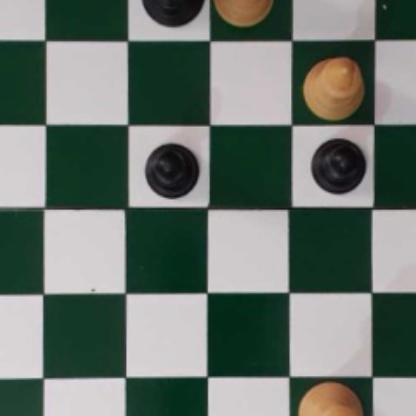black-king: (140, 0, 205, 28)
black-pawn: (142, 139, 201, 199), (309, 135, 368, 194)
white-bishop: (302, 54, 364, 121)
white-king: (298, 376, 366, 416)
white-rook: (213, 0, 276, 28)
